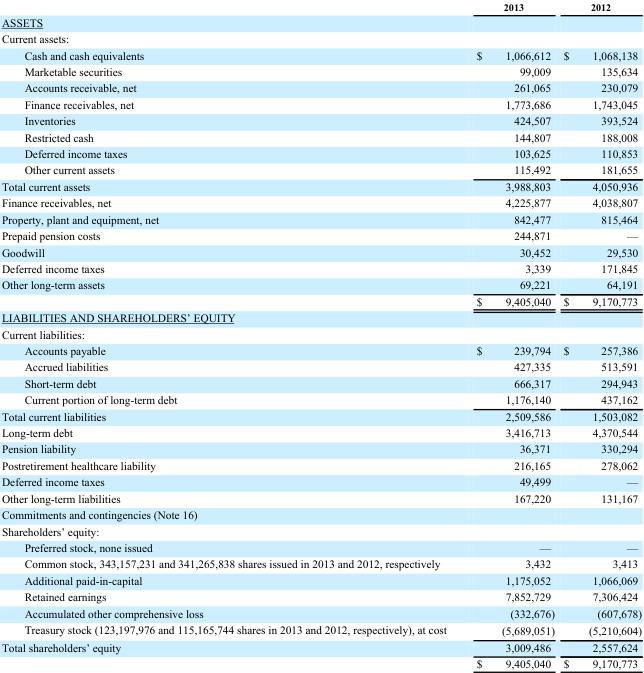table: (0, 0, 641, 669)
table column: (0, 0, 460, 669), (460, 0, 558, 669), (558, 0, 641, 669)
table column header: (0, 0, 641, 13)
table projected row header: (0, 13, 641, 30), (0, 30, 641, 46), (0, 309, 641, 325), (0, 325, 641, 341), (0, 506, 641, 522), (0, 522, 641, 538)
table row: (0, 620, 641, 638), (0, 13, 641, 30), (0, 62, 641, 79), (0, 95, 641, 112), (0, 144, 641, 161), (0, 177, 641, 194), (0, 210, 641, 227), (0, 259, 641, 276), (0, 292, 641, 309), (0, 341, 641, 358), (0, 374, 641, 391), (0, 407, 641, 424), (0, 456, 641, 473), (0, 489, 641, 506), (0, 538, 641, 555), (0, 571, 641, 588), (0, 638, 641, 655), (0, 30, 641, 46), (0, 46, 641, 62), (0, 79, 641, 95), (0, 112, 641, 128), (0, 128, 641, 144), (0, 161, 641, 177), (0, 194, 641, 210), (0, 227, 641, 243), (0, 243, 641, 259), (0, 276, 641, 292), (0, 309, 641, 325), (0, 325, 641, 341), (0, 358, 641, 374), (0, 391, 641, 407), (0, 424, 641, 440), (0, 440, 641, 456), (0, 473, 641, 489), (0, 506, 641, 522), (0, 522, 641, 538), (0, 555, 641, 571), (0, 588, 641, 604), (0, 604, 641, 620), (0, 655, 641, 669), (0, 0, 641, 13)
